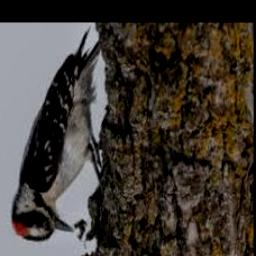Woodpecker: (10, 25, 102, 242)
